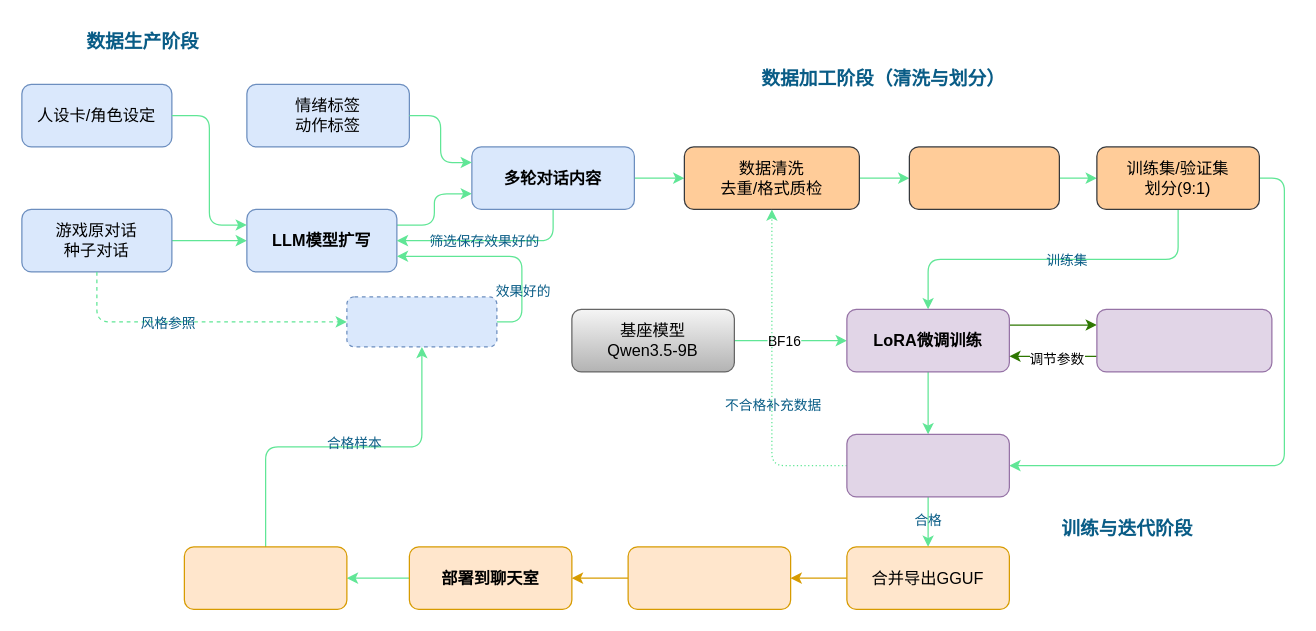
The diagram is 1316 pixels wide and 631 high, and some of its shapes have lost their labels. Each missing label, with the centre of its shape:
同步校验 （风格比对）: point (421, 321)
效果评估 人工试聊: point (927, 465)
数据集记录: point (983, 177)
本地4-bit量化: point (709, 577)
训练监控 (loss/过拟合): point (1184, 340)
输出对话内容 (试聊反馈): point (265, 577)
